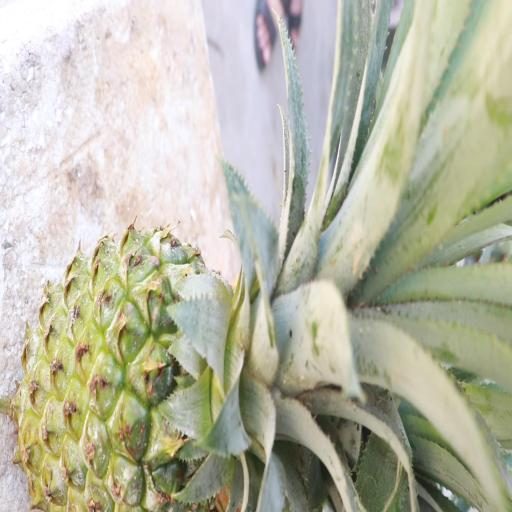------------------------------: (19, 244, 330, 512)
